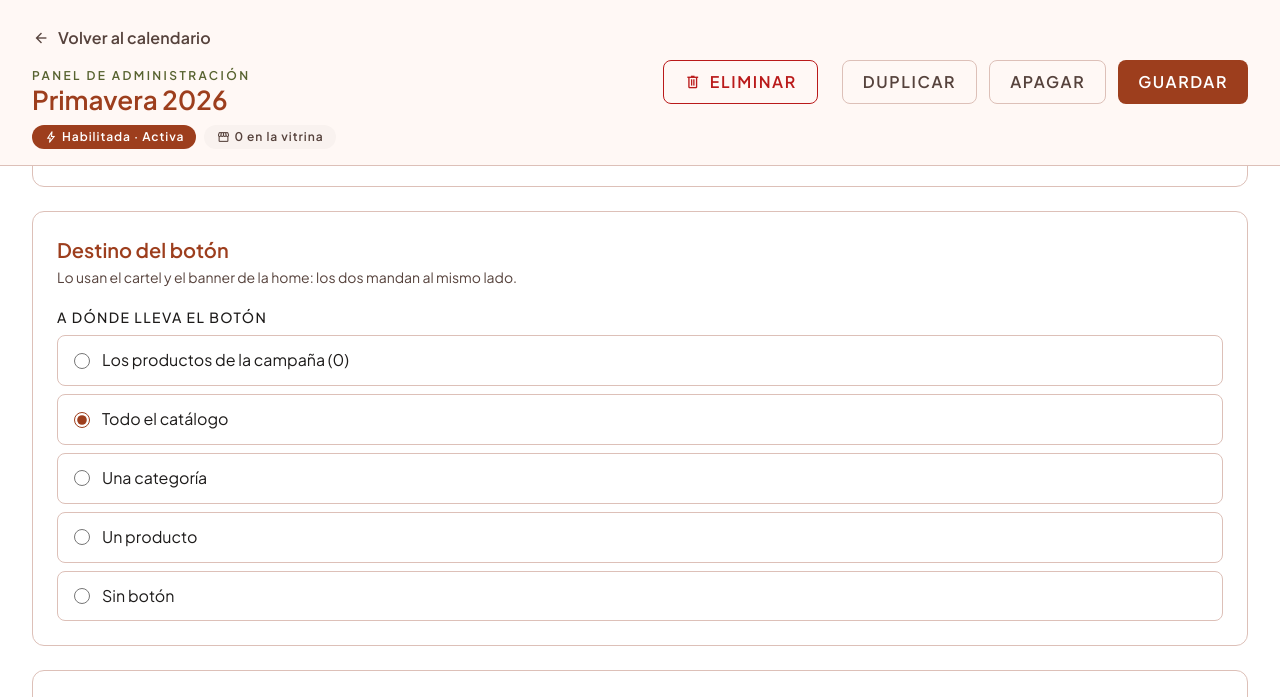
Test: AdminCampaniaEditor — edición › avisa cuando el botón apunta a una vitrina vacía
The width and height of the screenshot is (1280, 697).
(page scrolled)
Click the radio button labelled "Los productos de la campaña (0)".
click(82, 361)  # box [74,353,90,369]
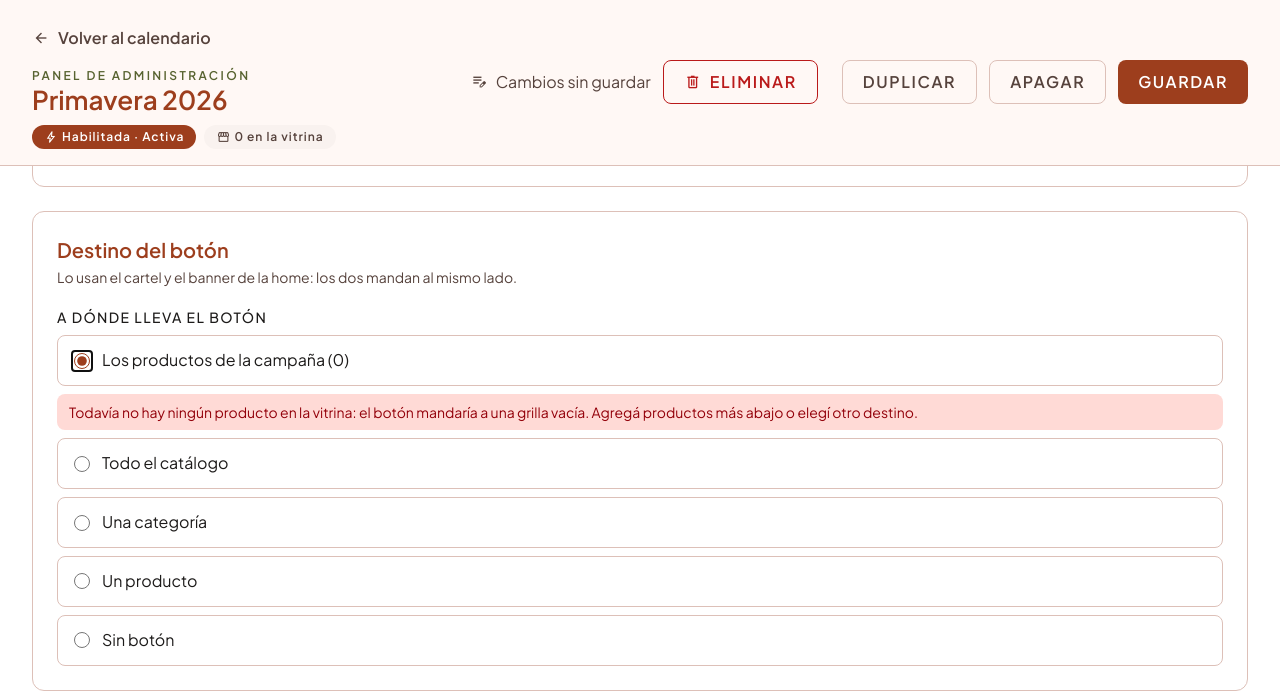
Result: the text "no hay ningún producto en la vitrina" is shown at [69,403,918,421]
